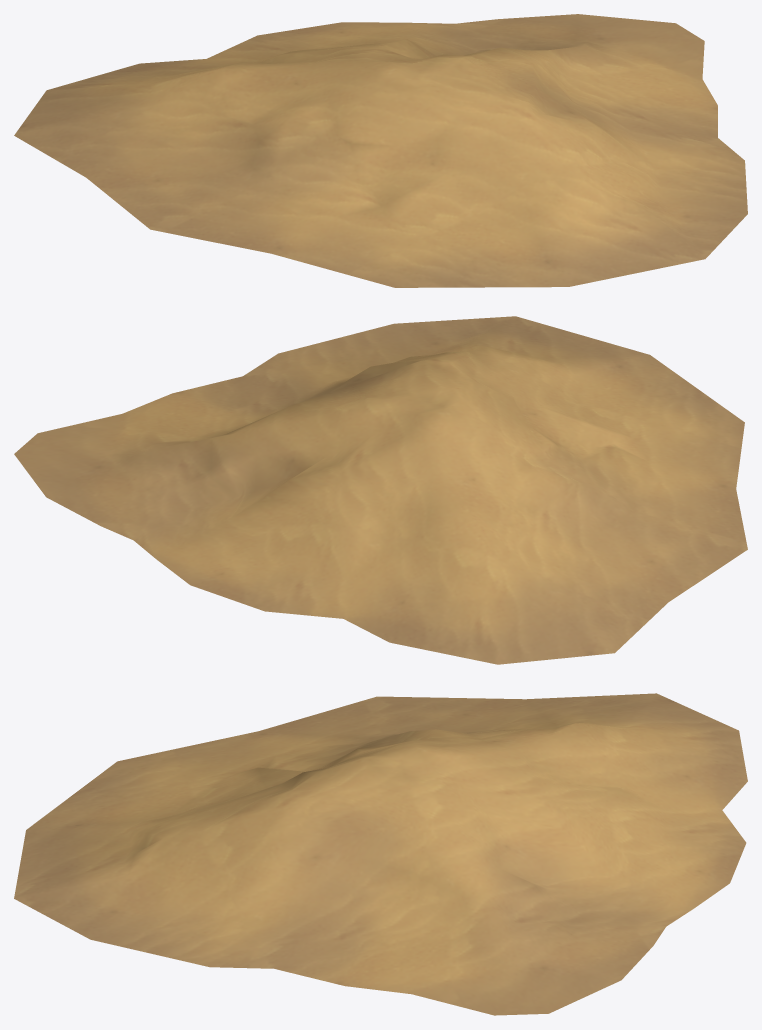
File: Area_05_4.fbx
The picture shows the model from 3 angles, top to bottom: view 1: azimuth 30°, elevation 25°; view 2: azimuth 150°, elevation 25°; view 3: azimuth 270°, elevation 25°; orthographic projection. The views are drawn at different scales.
Parts seen in each view (by area): view 1: Area_05_4; view 2: Area_05_4; view 3: Area_05_4.
Boxes of the visible parts, left/top/right/bottom form: Area_05_4: left=14, top=14, right=747, bottom=287; Area_05_4: left=14, top=316, right=747, bottom=664; Area_05_4: left=14, top=693, right=747, bottom=1015.
Size of the model in its own units: 5492 by 678 by 5289.
1 material, 1 textured.
